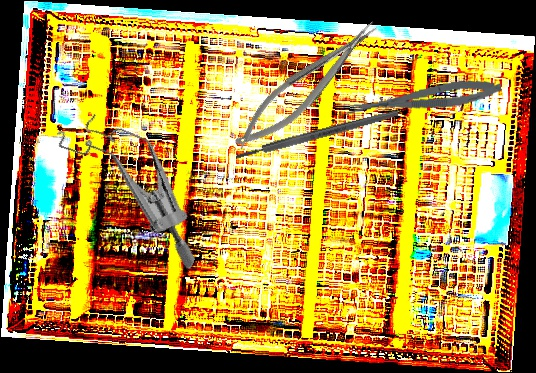Micro Scissor: (344, 75, 503, 120)
Needle Holder: (223, 14, 391, 159)
Scalpel Handle: (234, 108, 400, 162)
Speculum: (28, 102, 233, 271)
